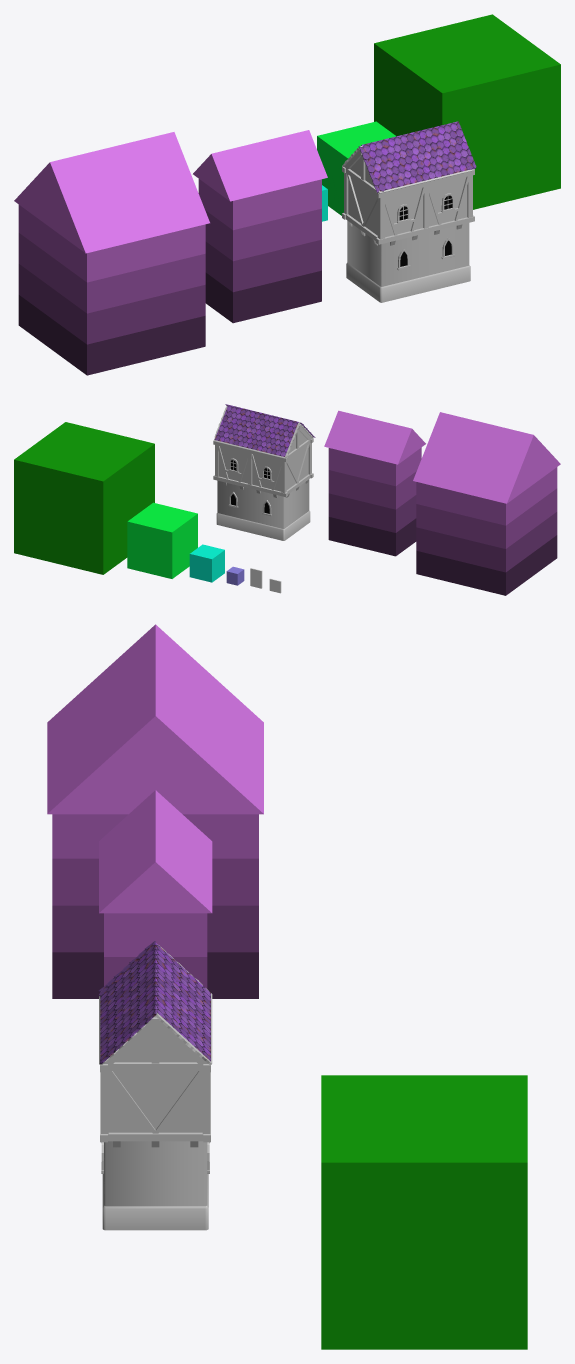
File: small_house_010.fbx
3 views of the same model, one above another, from view 1: azimuth 30°, elevation 25°; view 2: azimuth 150°, elevation 25°; view 3: azimuth 270°, elevation 25° (orthographic). The views are drawn at different scales.
Parts seen in each view (by area): view 1: 8x8m_Part, 0_Roof, 3_Middle_Bottom, 2_Middle_Top, 4_Bottom, 0_Roof.001, 1_Top, Roof_Scaled_Up, 3_Middle_Bottom.001, 4_Bottom.001, 2_Middle_Top.001, 1_Top.001 (+10 smaller); view 2: 8x8m_Part, 0_Roof, 4x4m_Part, 2_Middle_Top, 3_Middle_Bottom, 4_Bottom, 0_Roof.001, 1_Top, Roof_Scaled_Up, 3_Middle_Bottom.001, 4_Bottom.001, 2_Middle_Top.001 (+12 smaller); view 3: 8x8m_Part, 0_Roof, 0_Roof.001, Roof_Scaled_Up, 1_Top, 3_Middle_Bottom, 4_Bottom, 2_Middle_Top, 1_Top.001, Moss_Foundation, Stone_Wall, Stone_Wall.001 (+7 smaller).
Boxes of the visible parts, x1,y1,x2,y2 form: 8x8m_Part: (374, 14, 560, 209); 0_Roof: (14, 132, 209, 253); 3_Middle_Bottom: (18, 264, 205, 344); 2_Middle_Top: (18, 233, 205, 313); 4_Bottom: (18, 295, 205, 375); 0_Roof.001: (193, 130, 327, 201); 1_Top: (18, 204, 205, 282); Roof_Scaled_Up: (361, 123, 469, 191); 3_Middle_Bottom.001: (205, 239, 321, 292); 4_Bottom.001: (205, 270, 321, 323); 2_Middle_Top.001: (205, 208, 321, 261); 1_Top.001: (198, 179, 321, 230); 8x8m_Part: (14, 422, 154, 574); 0_Roof: (413, 412, 560, 503); 4x4m_Part: (127, 502, 197, 578); 2_Middle_Top: (416, 488, 557, 548); 3_Middle_Bottom: (416, 512, 557, 572); 4_Bottom: (416, 535, 557, 595); 0_Roof.001: (324, 410, 425, 464); 1_Top: (416, 467, 557, 525); Roof_Scaled_Up: (214, 405, 298, 456); 3_Middle_Bottom.001: (328, 493, 416, 532); 4_Bottom.001: (328, 517, 416, 556); 2_Middle_Top.001: (328, 470, 416, 509); 8x8m_Part: (321, 1075, 527, 1349); 0_Roof: (47, 624, 263, 814); 0_Roof.001: (99, 790, 212, 913); Roof_Scaled_Up: (100, 942, 210, 1061); 1_Top: (52, 814, 258, 858); 3_Middle_Bottom: (52, 905, 258, 952); 4_Bottom: (52, 952, 258, 998); 2_Middle_Top: (52, 858, 258, 905); 1_Top.001: (104, 913, 207, 956); Moss_Foundation: (102, 1174, 208, 1230); Stone_Wall: (104, 1182, 207, 1206); Stone_Wall.001: (104, 1159, 207, 1182).
Bounding box in the file's own units: 1862 × 1320 × 3820.
